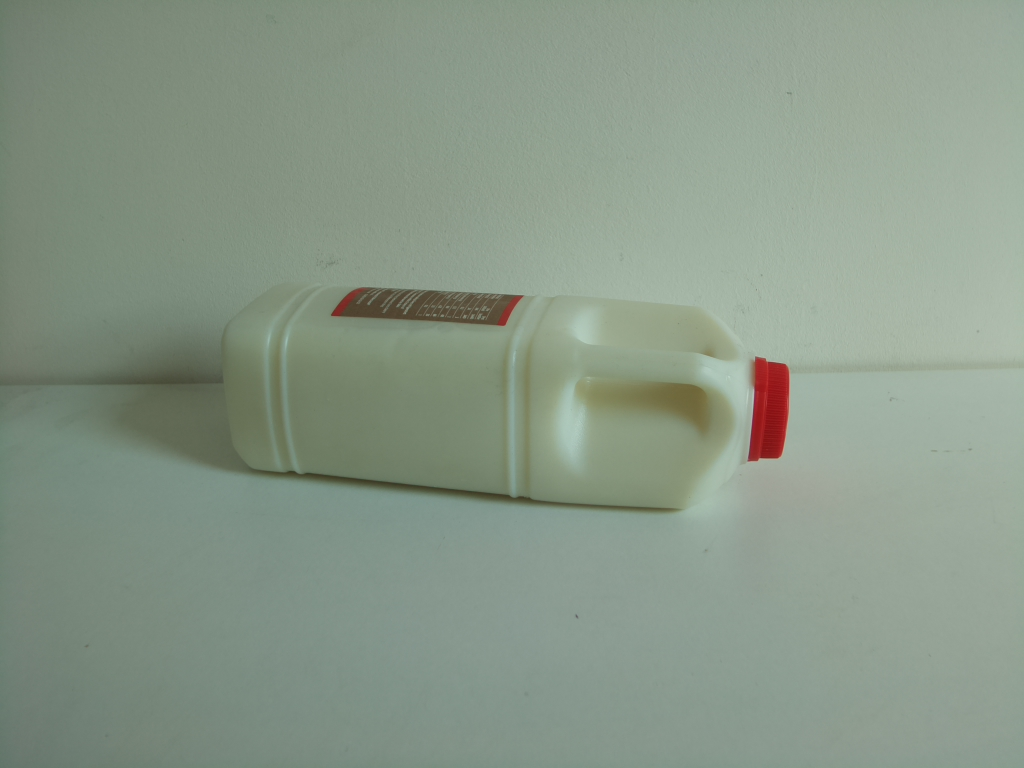milk: (215, 282, 791, 514)
